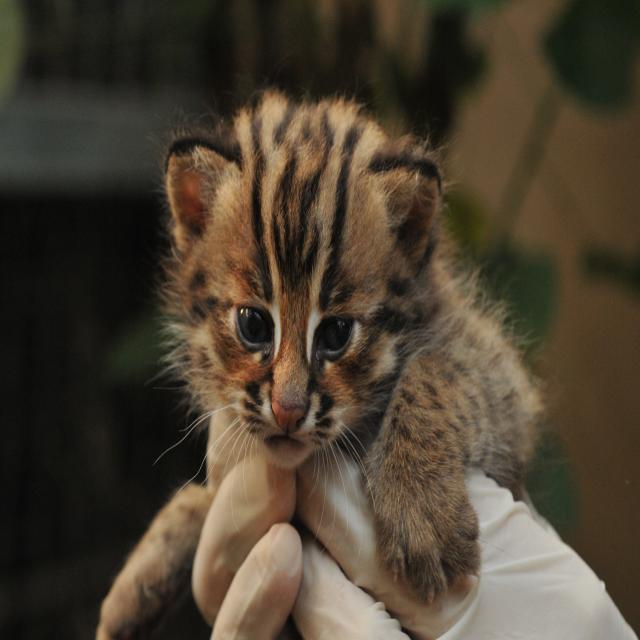leopard-cat: (152, 84, 513, 566)
